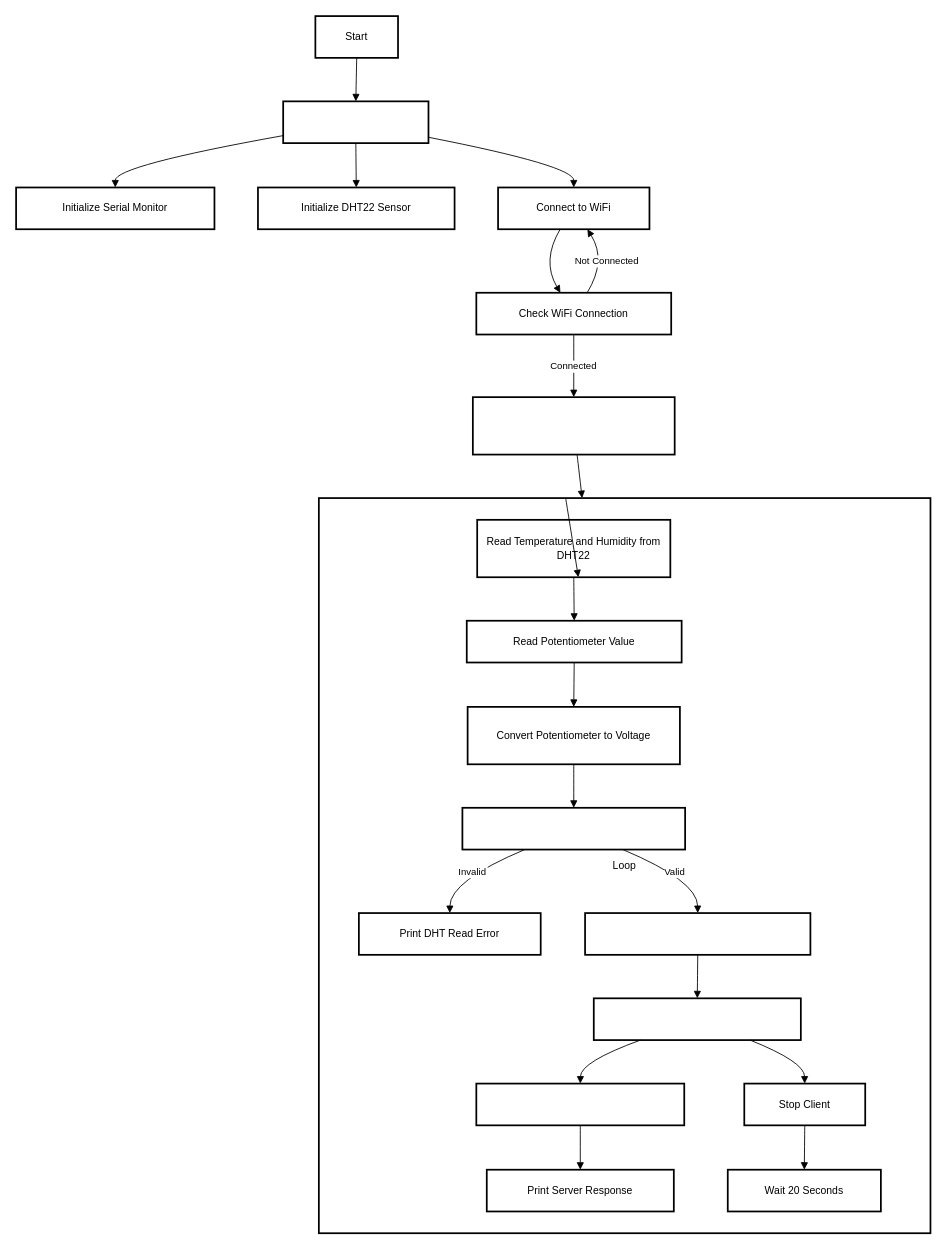
This 946x1248 diagram has some shape labels left out. The centre of each missing label's shape, as x and y in pixels:
Check DHT Sensor Readings: (573,828)
Display WiFi Connection Status: (573,425)
Prepare URL for ThingSpeak: (697,933)
Send Data to ThingSpeak: (696,1019)
Setup Function: (355,122)
Wait for Server Response: (580,1104)
